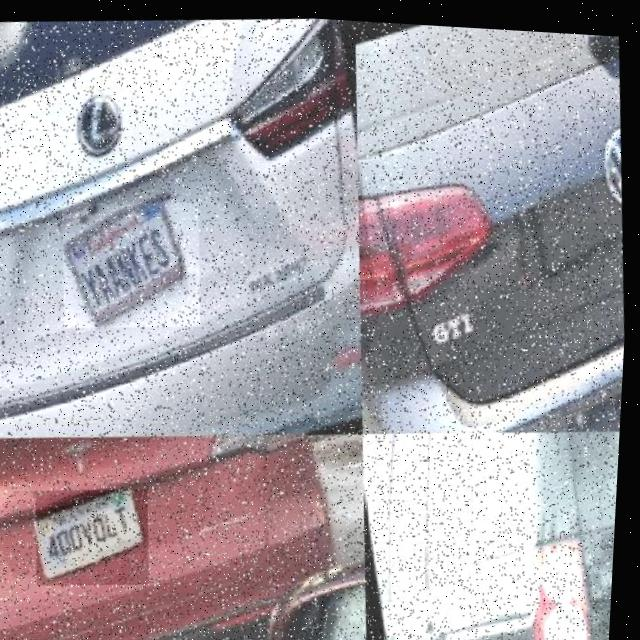LicensePlate: (58, 193, 209, 333), (41, 487, 154, 584)
